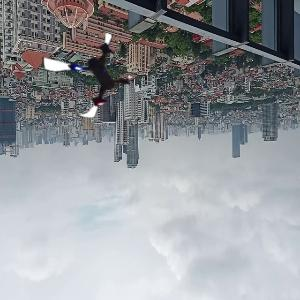drone: (41, 25, 139, 123)
